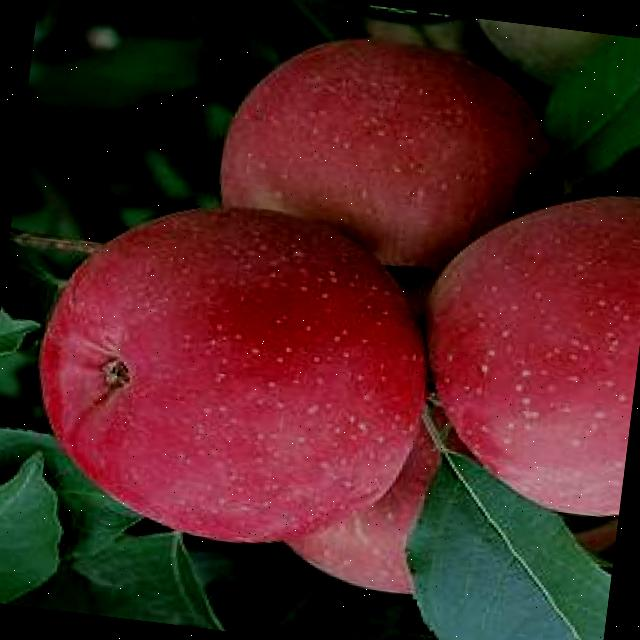apple: (19, 186, 443, 561)
